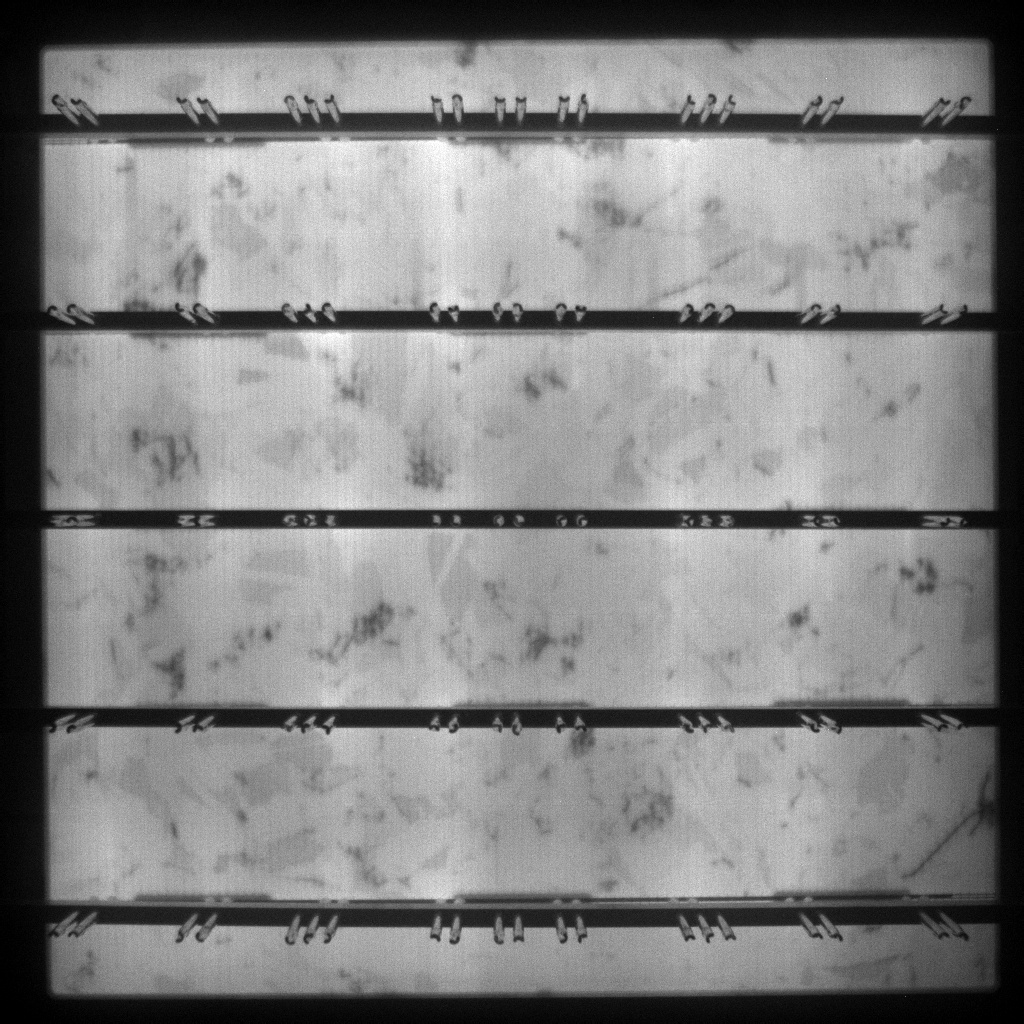crack: (900, 770, 994, 880)
